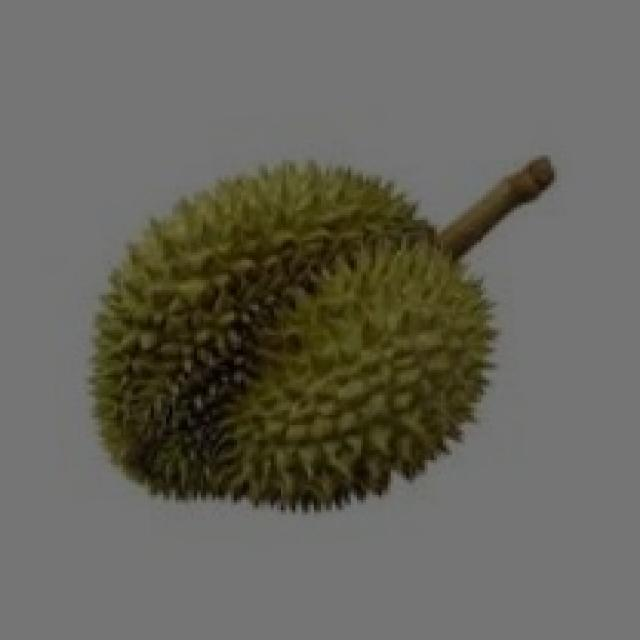fruit: (46, 142, 379, 550)
